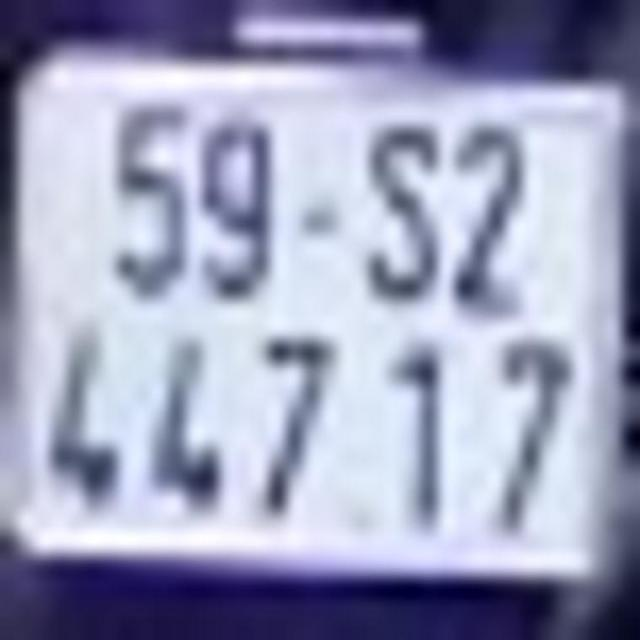1: (389, 340, 440, 548)
2: (493, 338, 572, 549), (452, 122, 528, 320)
4: (150, 328, 222, 530), (50, 320, 122, 511)
5: (116, 100, 190, 302)
7: (257, 330, 339, 525)
9: (200, 114, 273, 298)
S: (364, 125, 438, 306)
